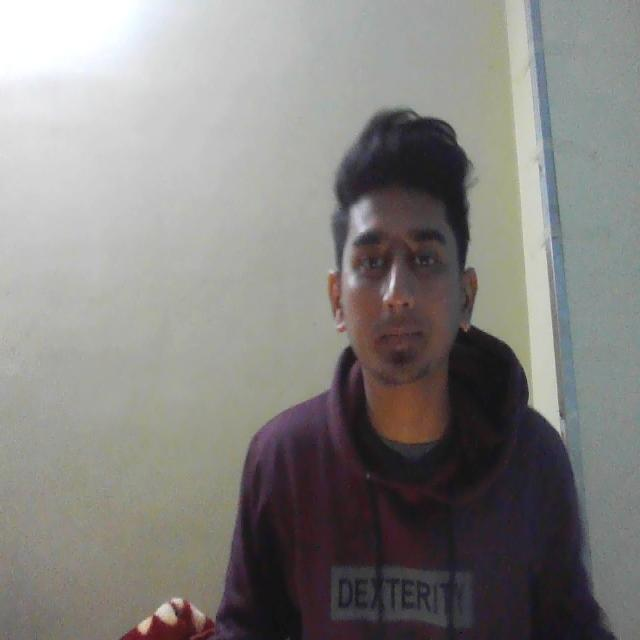real: (331, 128, 481, 411)
